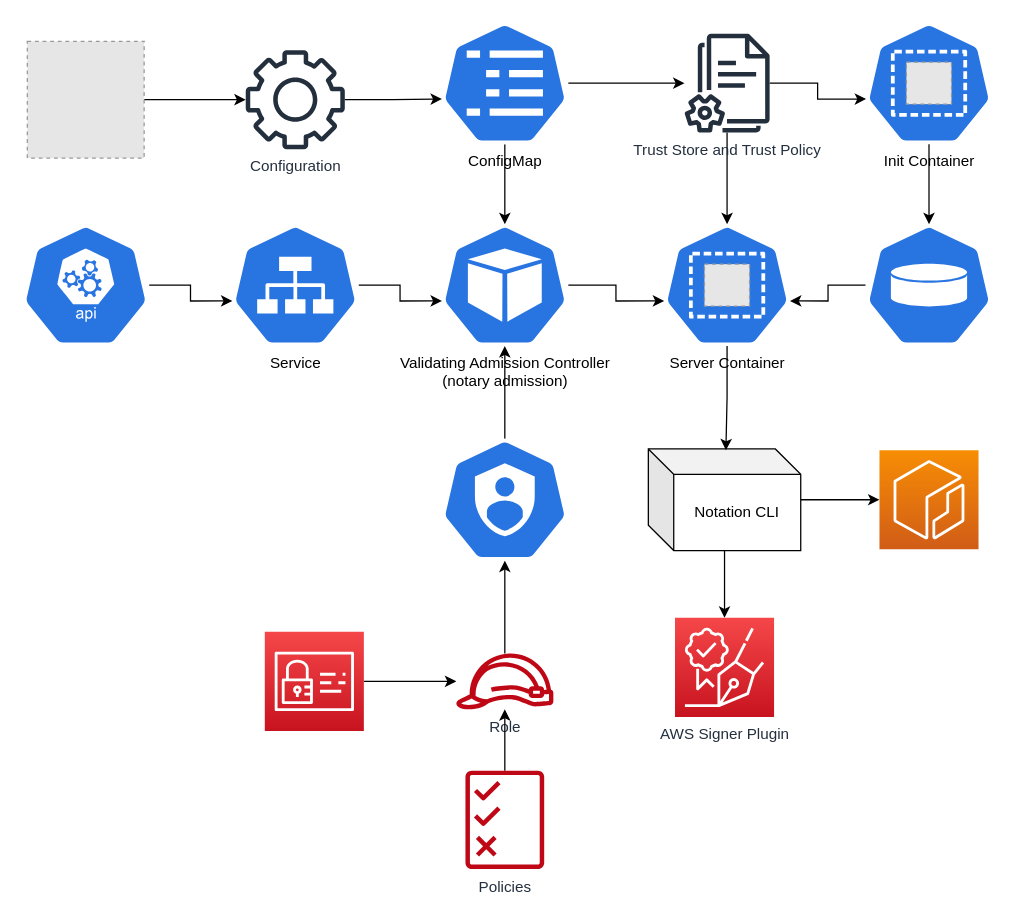
The diagram is 1015 pixels wide and 918 high, and some of its shapes have lost their labels. Grey dashed boxes stand in for pictures. The box of each missing label's shape, as (x1, y1, x2, y2) in pixels:
Amazon ECR: (878, 449, 979, 549)
API Server: (21, 223, 149, 346)
AWS IAM: (264, 631, 364, 731)
Service Account: (440, 438, 568, 561)
Volume (EmptyDir): (864, 223, 993, 346)
